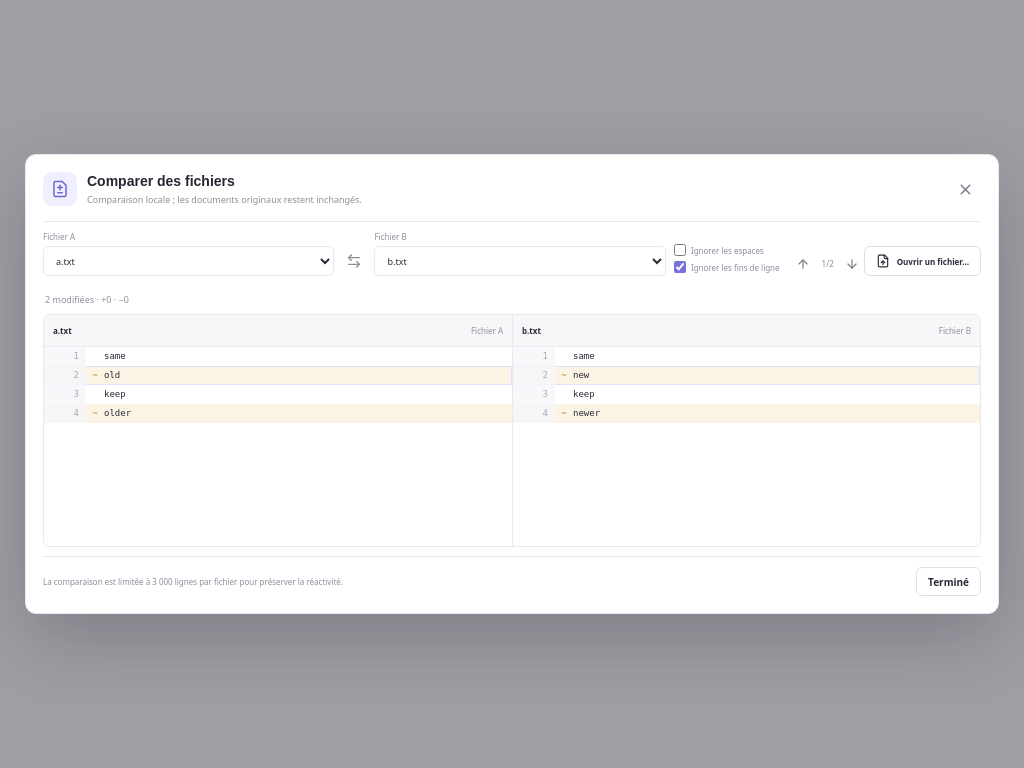
it: TextDiffDialog controls › navigates between differences and wraps to the first
The image size is (1024, 768).
Expected: the text "1/2" is shown, [822,258,834,269]
Click the button named "Différence suivante". click: [852, 264]
box: [837,251,868,276]
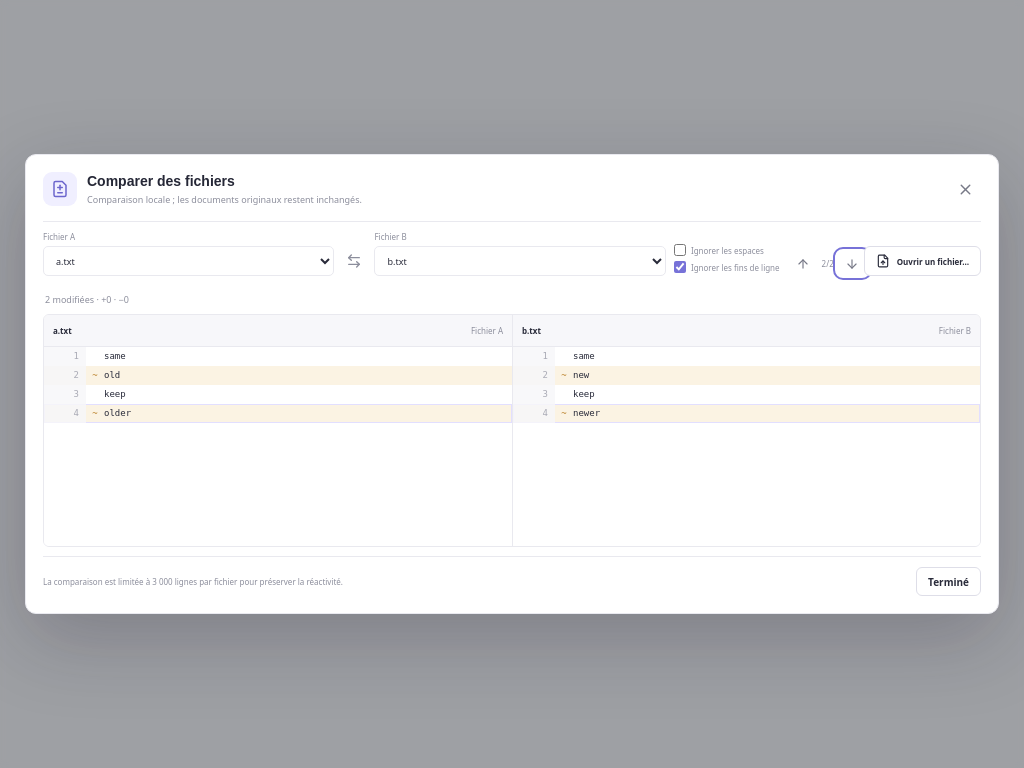
Expected: the text "2/2" is shown, [822,258,834,269]
Click the button named "Différence suivante". click: [852, 264]
box: [837,251,868,276]
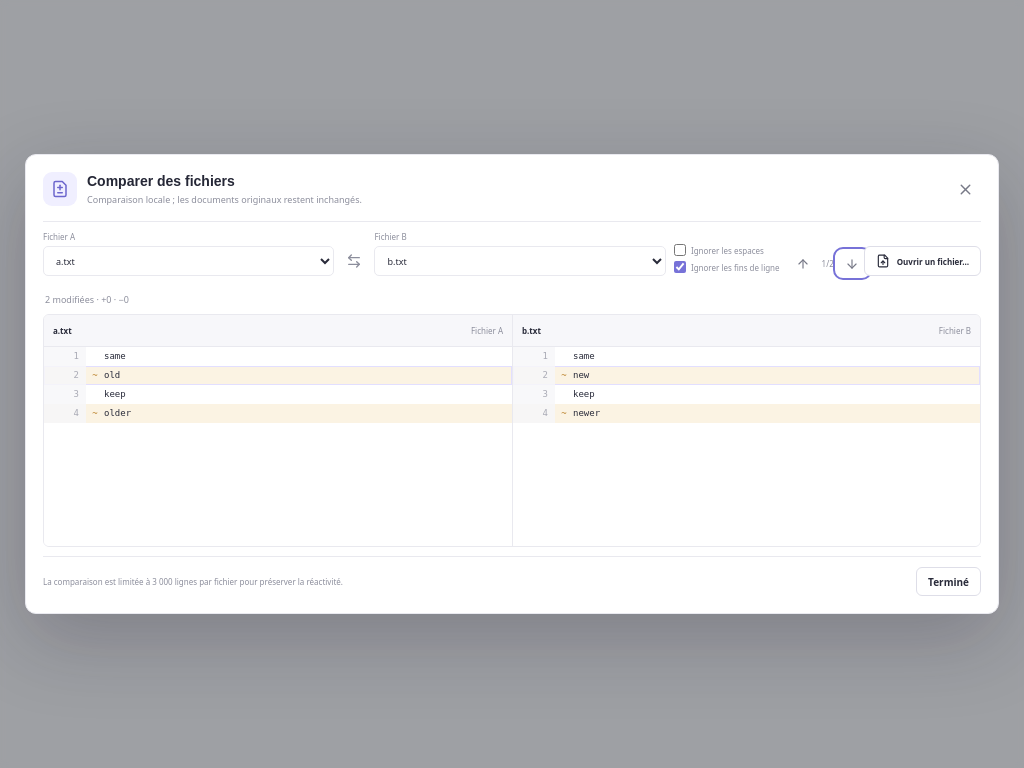
Expected: the text "1/2" is shown, [822,258,834,269]
